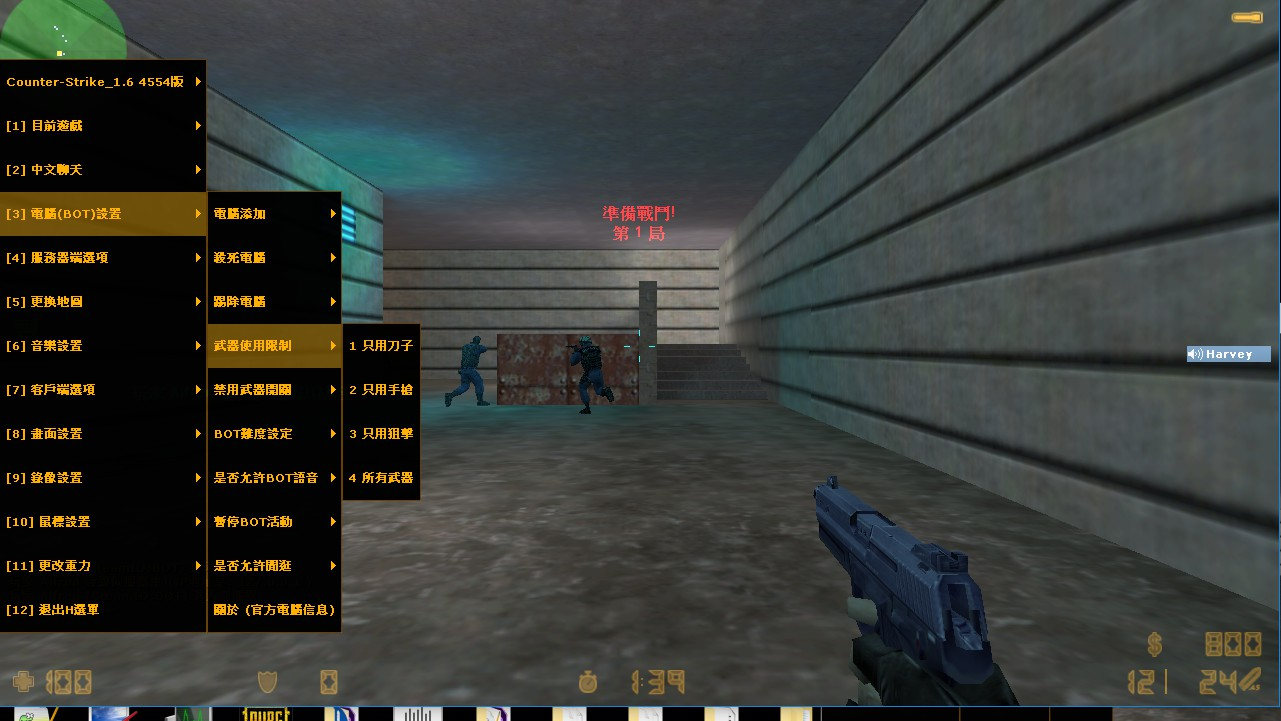person: (567, 332, 609, 414), (448, 331, 490, 410)
